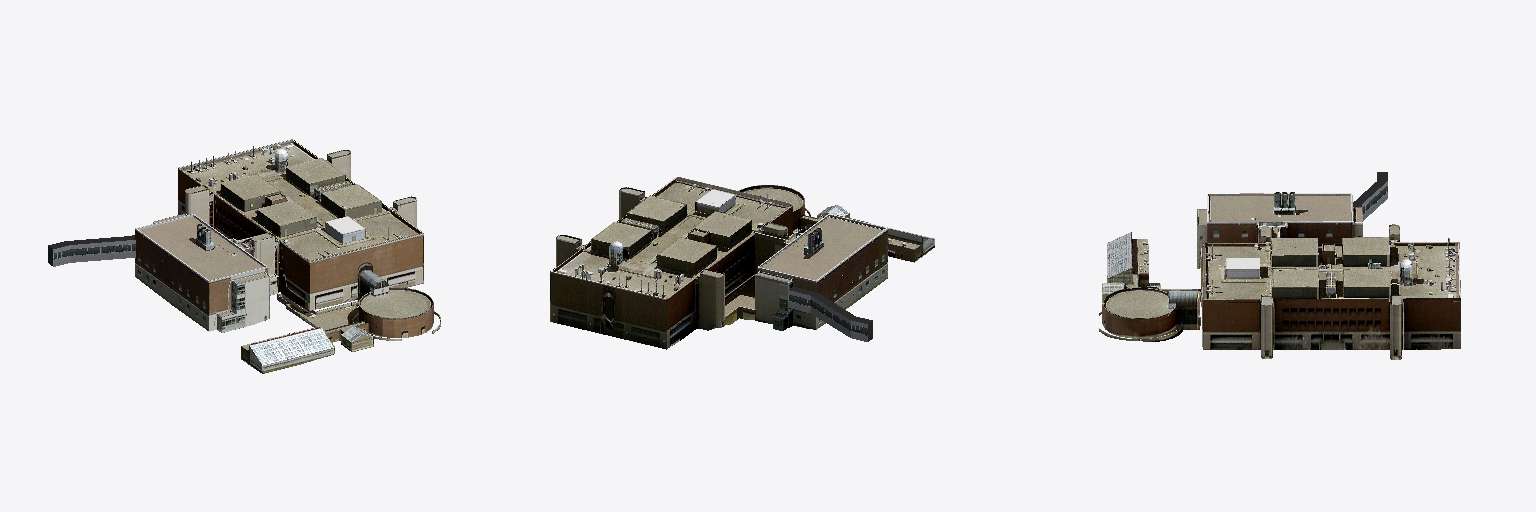
The picture shows the model from 3 angles: view 1: azimuth 30°, elevation 25°; view 2: azimuth 150°, elevation 25°; view 3: azimuth 270°, elevation 25°; orthographic projection.
Visible parts, largest first — view 1: WSB_Ext2; view 2: WSB_Ext2; view 3: WSB_Ext2.
Boxes of the visible parts, <box> form: WSB_Ext2: <box>48,139,440,373</box>; WSB_Ext2: <box>550,177,934,349</box>; WSB_Ext2: <box>1099,172,1460,359</box>.
Size of the model in its own units: 4074 by 984 by 4150.
Materials: 4 (3 with a texture image).